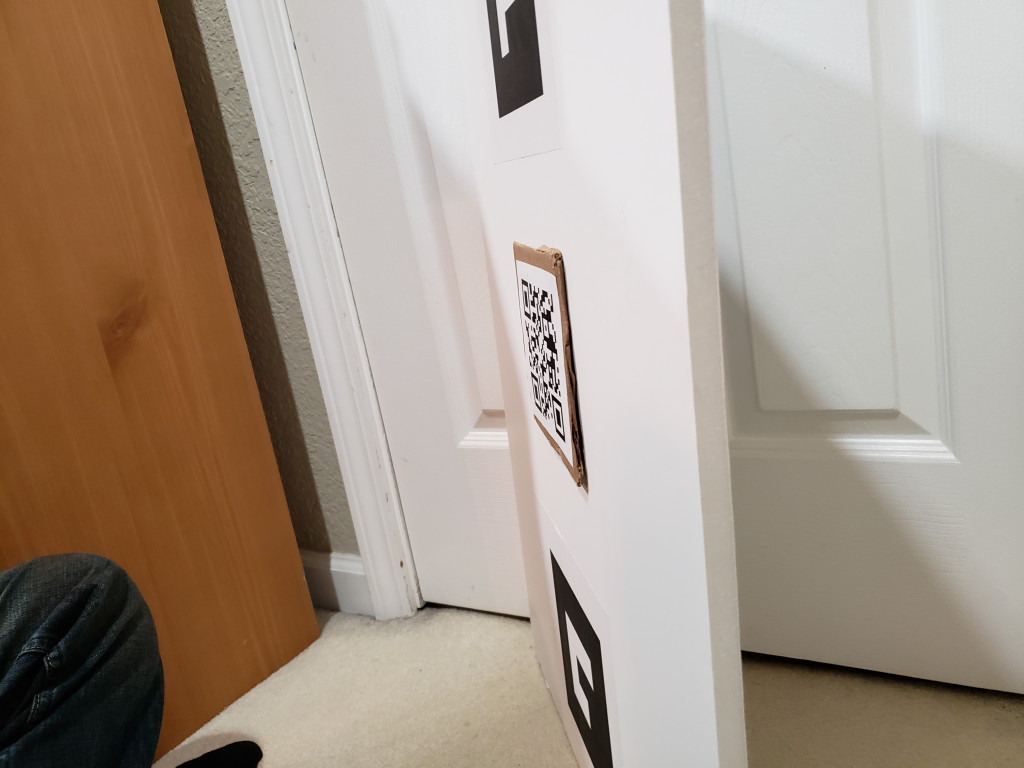QR_CODE: (511, 269, 581, 454)
